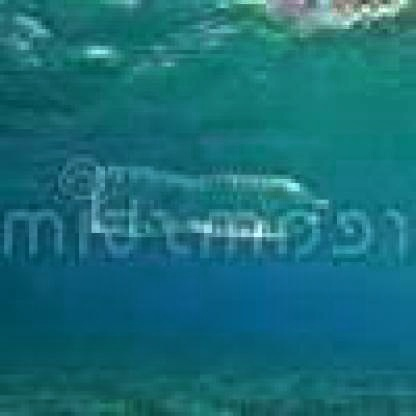pbottle: (75, 158, 353, 250)
